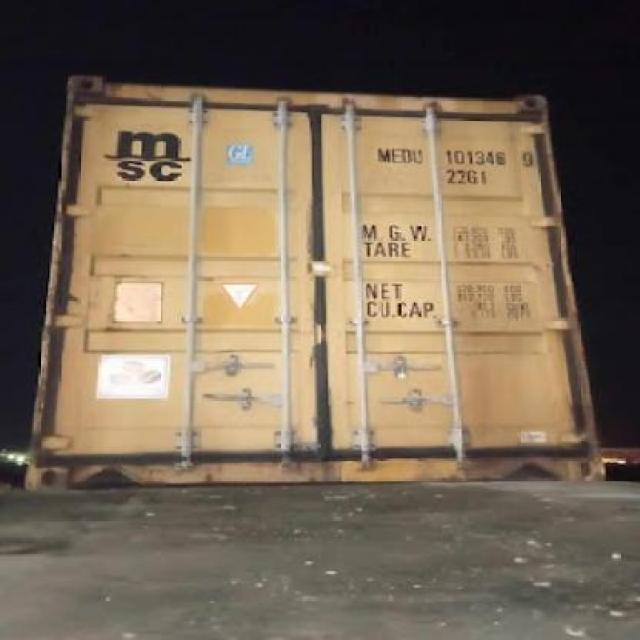ISO: (444, 168, 486, 186)
container_number: (382, 146, 530, 166)
